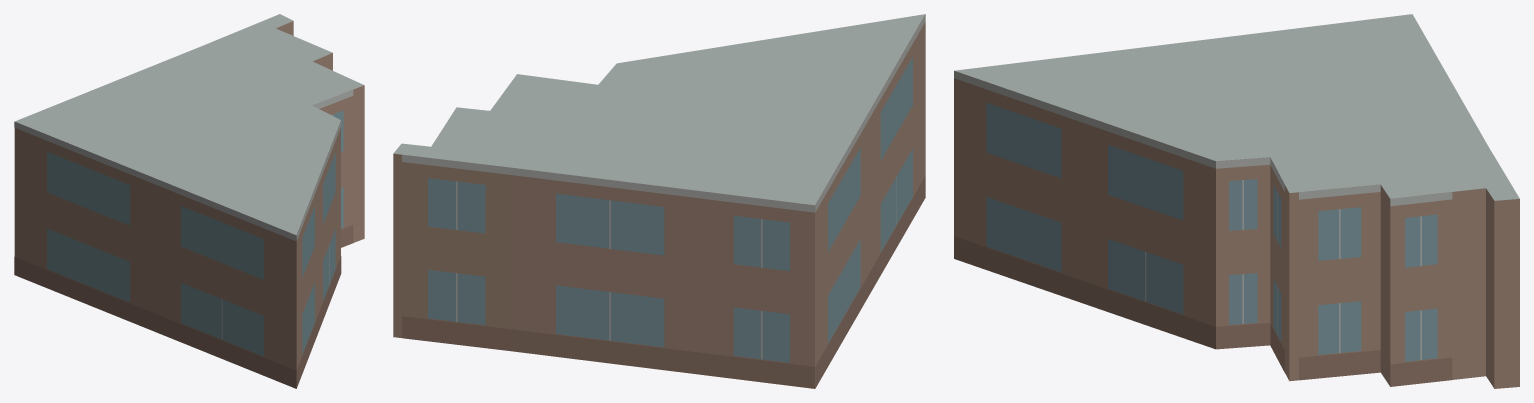
The model's file is survey-upis-32567388.glb.
The picture shows the model from 3 angles, left to right: view 1: azimuth 30°, elevation 25°; view 2: azimuth 150°, elevation 25°; view 3: azimuth 270°, elevation 25°; orthographic projection. The views are drawn at different scales.
Parts seen in each view (by area): view 1: survey-upis-32567388.tmp; view 2: survey-upis-32567388.tmp; view 3: survey-upis-32567388.tmp.
Boxes of the visible parts, <box> form: survey-upis-32567388.tmp: <box>14,14,364,388</box>; survey-upis-32567388.tmp: <box>393,14,925,388</box>; survey-upis-32567388.tmp: <box>954,14,1519,388</box>.
Size of the model in its own units: 13 by 6.1 by 16.64.
